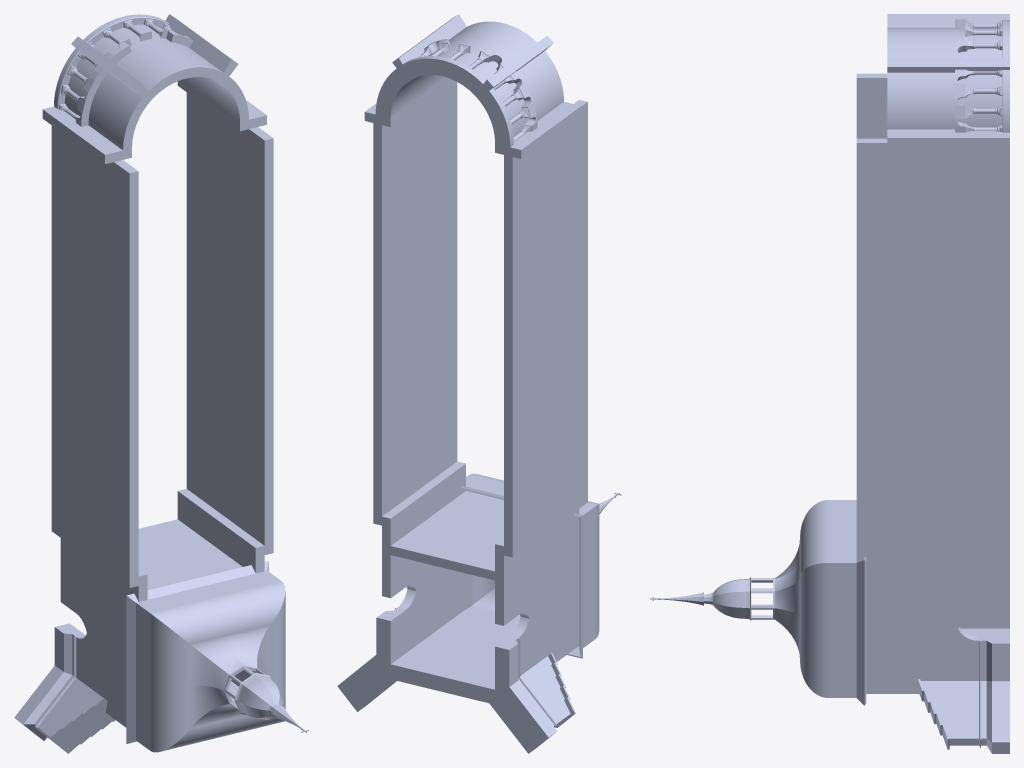
The model's file is main.gltf.
3 renders of one model, left to right at view 1: azimuth 30°, elevation 25°; view 2: azimuth 150°, elevation 25°; view 3: azimuth 270°, elevation 25°, orthographic. The views are drawn at different scales.
Visible parts, largest first — view 1: nef-1, tour-1, Abside-1, pilier-1; view 2: nef-1, tour-1, Abside-1, pilier-1; view 3: nef-1, tour-1, Abside-1, pilier-1.
Boxes of the visible parts, <box> form: nef-1: <box>51,92,273,604</box>; tour-1: <box>14,519,308,753</box>; Abside-1: <box>42,14,266,164</box>; pilier-1: <box>59,18,192,126</box>; nef-1: <box>373,79,587,580</box>; tour-1: <box>337,473,621,753</box>; Abside-1: <box>364,14,581,158</box>; pilier-1: <box>419,39,537,142</box>; nef-1: <box>856,73,1009,565</box>; tour-1: <box>650,500,1009,753</box>; Abside-1: <box>887,14,1009,146</box>; pilier-1: <box>955,19,1002,132</box>.
Size of the model in its own units: 24.32 by 73.95 by 35.21.
